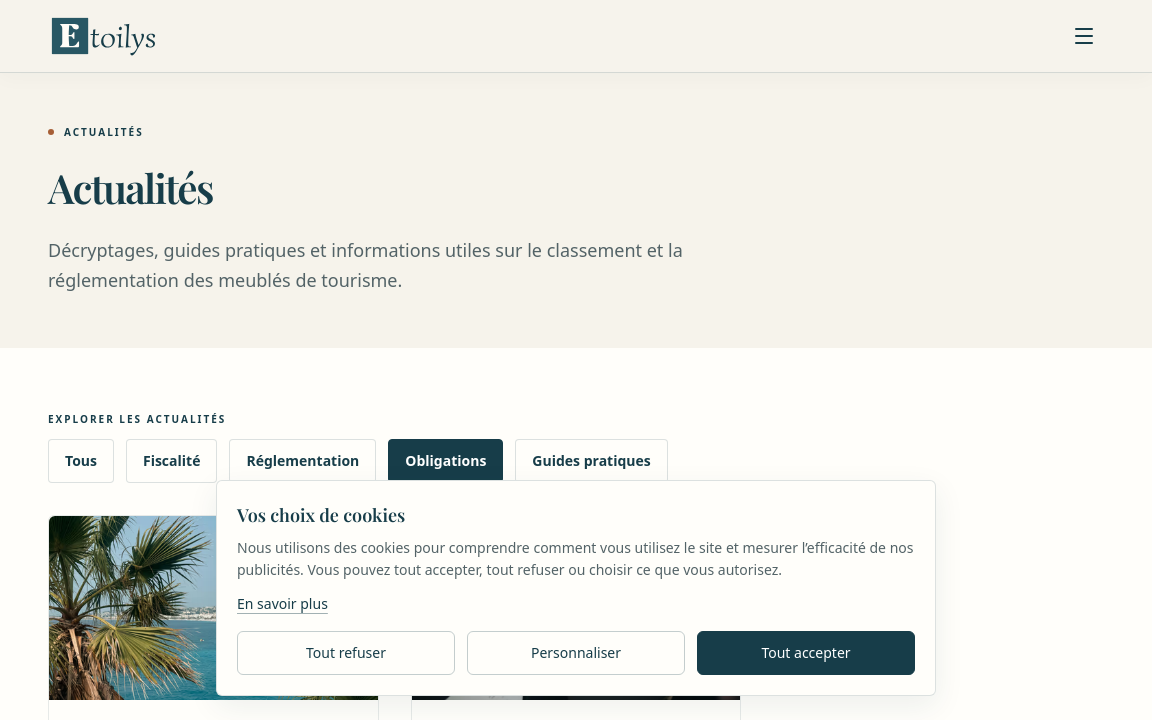
Test: Actualites page › removes the category parameter when the all filter is clicked
Step 1. Click the button "Tous" → [81, 461], box [48, 439, 114, 483]
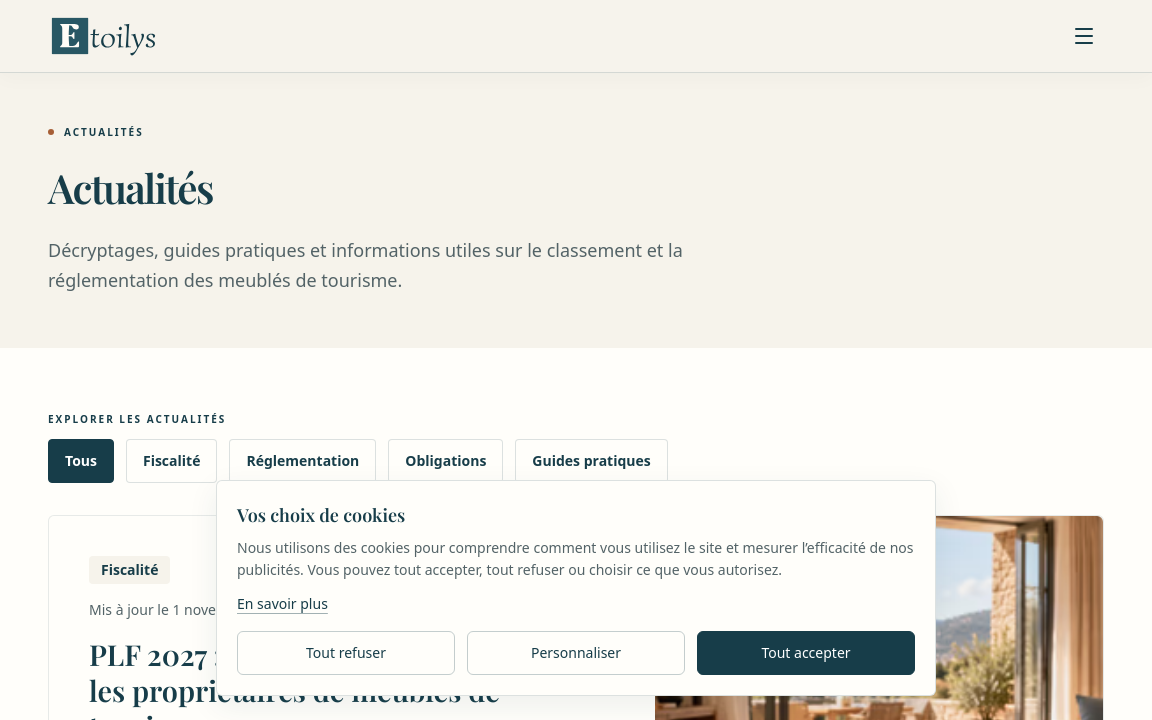
expect the button "Tous" is pressed: met, box [48, 439, 114, 483]
